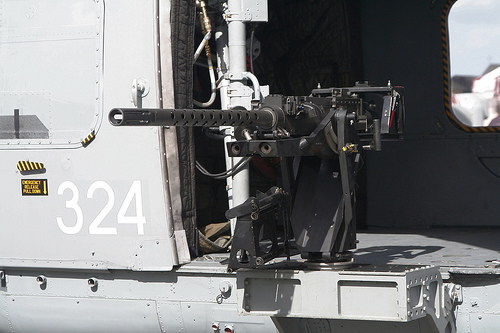rifle: (105, 73, 413, 262)
